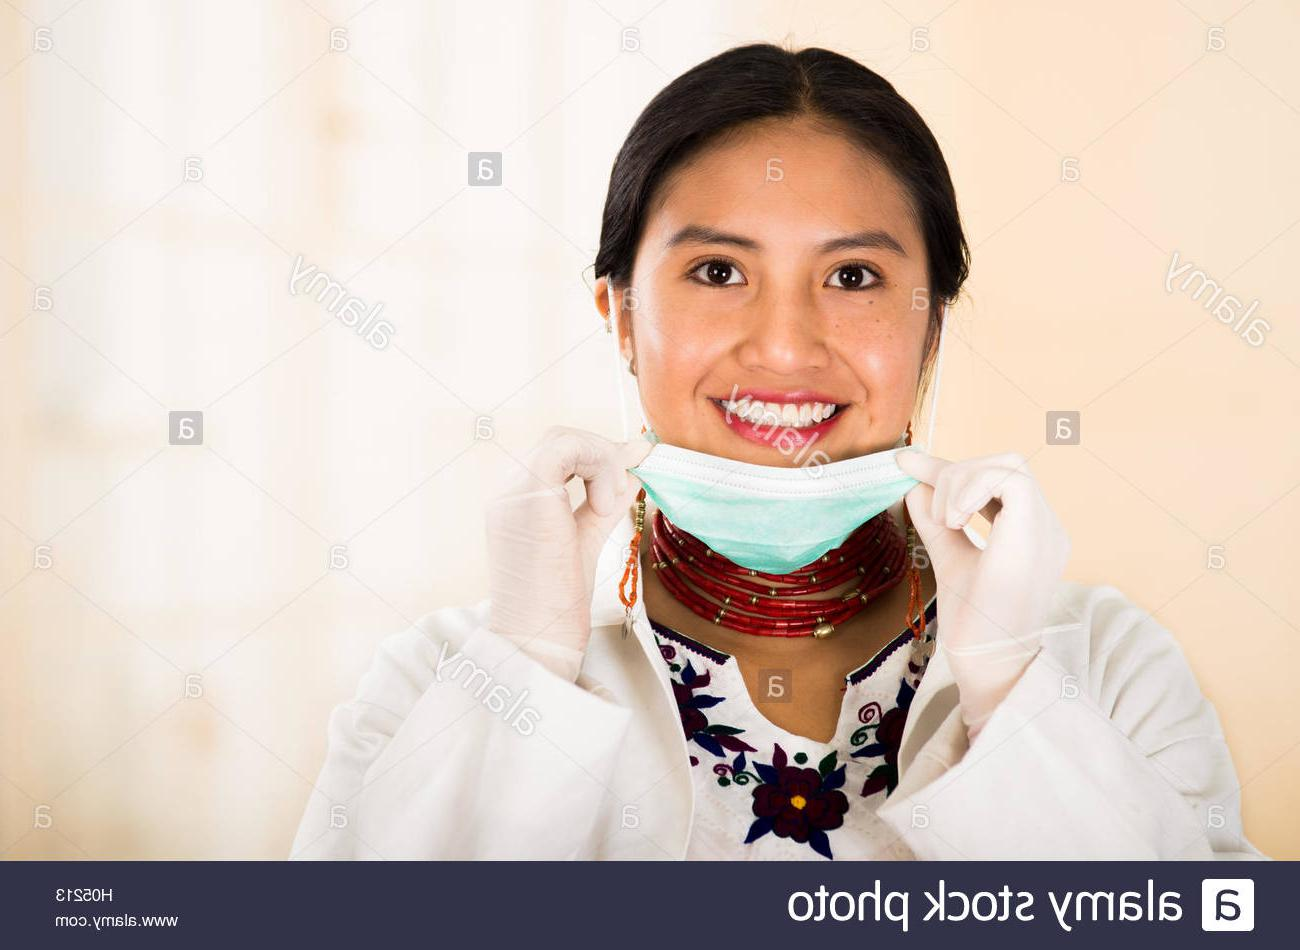mask_weared_incorrect: (642, 217, 914, 534)
